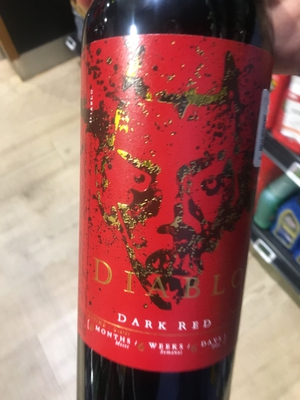diablo dark red: (69, 8, 276, 400)
